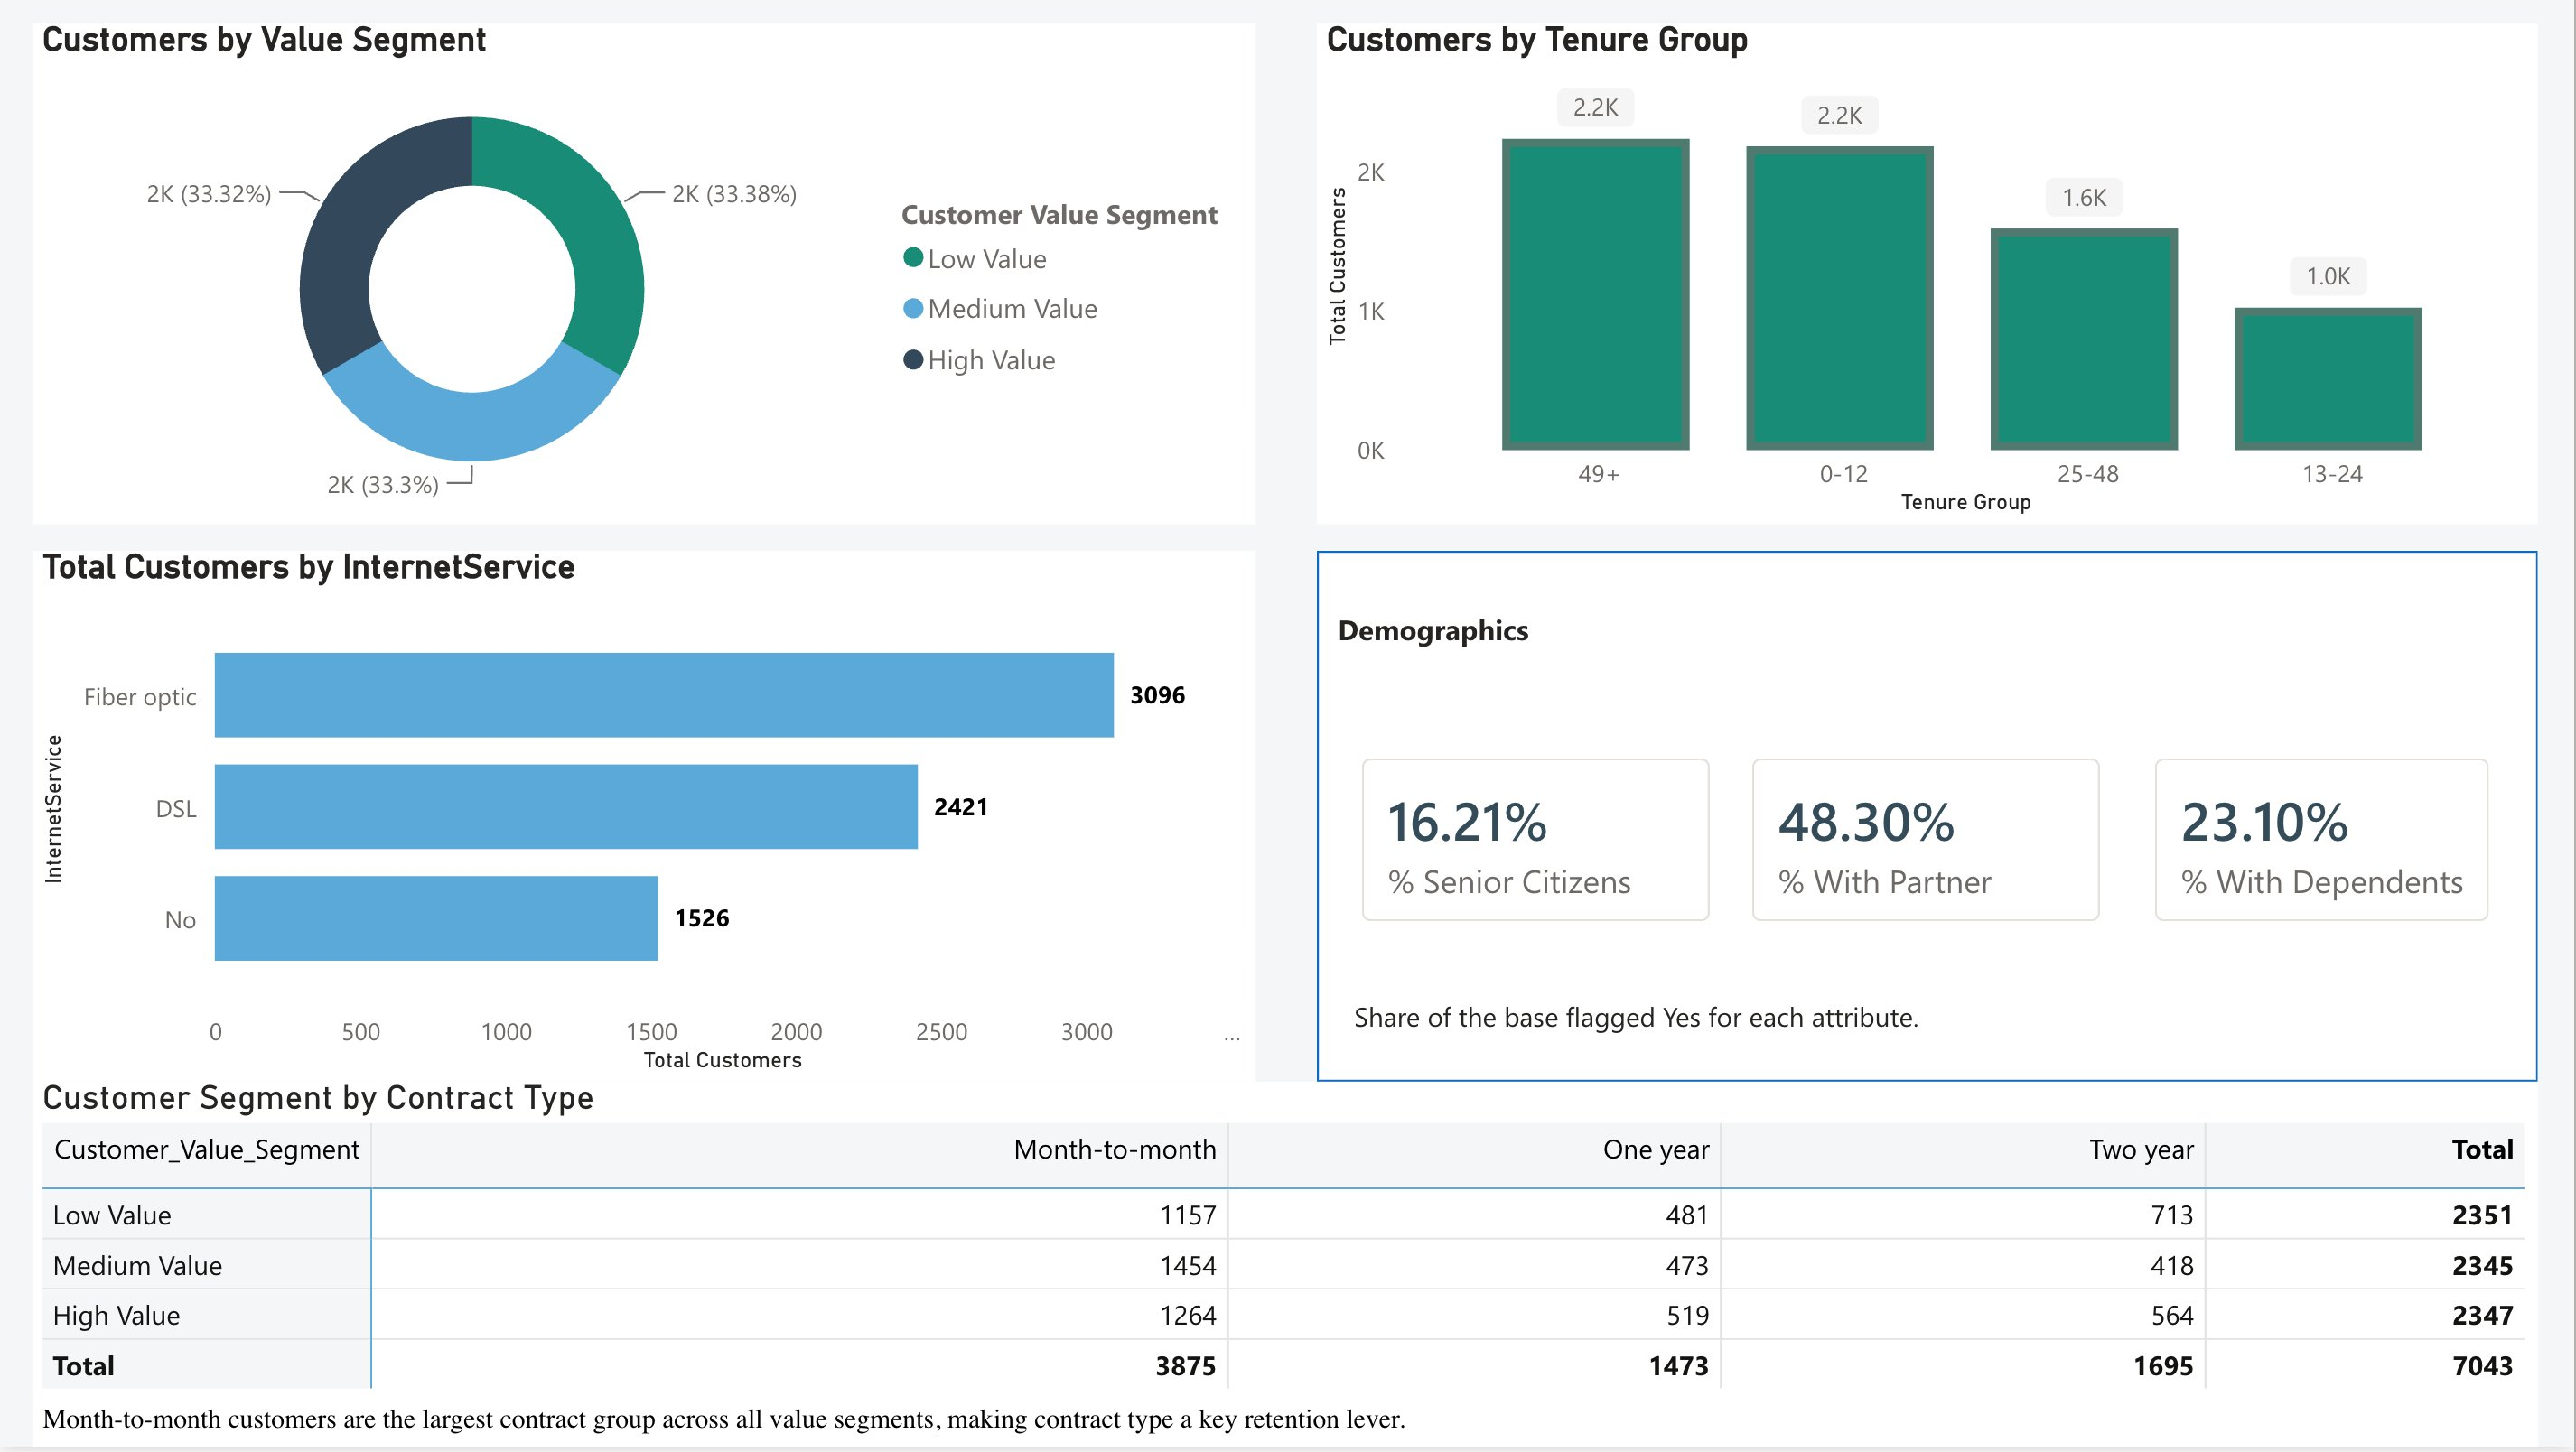

This screenshot's page, from the dashboard's own definition file:
{"tool":"powerbi","page":{"name":"Page 2","canvas":[1280,720],"ordinal":1},"visuals":[{"type":"donutChart","title":"Customers by Value Segment","fields":{"Category":["telco_churn_cleaned.Customer_Value_Segment"],"Y":["telco_churn_cleaned.Total Customers"]},"box":[16.2,11.7,608.1,248.8],"z":0},{"type":"clusteredColumnChart","title":"Customers by Tenure Group","fields":{"Category":["telco_churn_cleaned.Tenure_Group"],"Y":["telco_churn_cleaned.Total Customers"]},"box":[654.8,11.7,607.2,248.8],"z":1000},{"type":"clusteredBarChart","fields":{"Category":["telco_churn_cleaned.InternetService"],"Y":["telco_churn_cleaned.Total Customers"]},"box":[16.2,274,608.1,264.1],"z":2000},{"type":"pivotTable","title":"Customer Segment by Contract Type","fields":{"Columns":["telco_churn_cleaned.Contract"],"Rows":["telco_churn_cleaned.Customer_Value_Segment"],"Values":["telco_churn_cleaned.Total Customers"]},"box":[16.2,538,1245.9,182.3],"z":3000},{"type":"shape","box":[654.8,274,607.2,264.1],"z":4000},{"type":"cardVisual","fields":{"Data":["telco_churn_cleaned.% Senior Citizens"]},"box":[660.2,360.2,207.5,115.9],"z":4001},{"type":"cardVisual","fields":{"Data":["telco_churn_cleaned.% With Partner"]},"box":[854.2,360.2,207.5,115.9],"z":4002},{"type":"cardVisual","fields":{"Data":["telco_churn_cleaned.% With Dependents"]},"box":[1054.5,360.2,200.3,115.9],"z":4003},{"type":"textbox","box":[660.2,298.2,250.6,40.4],"z":4004},{"type":"textbox","box":[668.3,491.3,470.7,35],"z":4005},{"type":"textbox","box":[16.2,690.8,843.5,29.6],"z":4006}]}

Visuals, with their boxes in screenshot pixels (x1, y1, x2, y2), scaled from the page's 1280x720 canvas onto the 2576x1452 screenshot:
"Customers by Value Segment" donutChart: <region>33, 23, 1256, 526</region>
"Customers by Tenure Group" clusteredColumnChart: <region>1318, 23, 2540, 526</region>
clusteredBarChart - telco_churn_cleaned.InternetService x telco_churn_cleaned.Total Customers: <region>33, 553, 1256, 1085</region>
"Customer Segment by Contract Type" pivotTable: <region>33, 1085, 2540, 1451</region>
shape: <region>1318, 553, 2540, 1085</region>
cardVisual - telco_churn_cleaned.% Senior Citizens: <region>1329, 726, 1746, 960</region>
cardVisual - telco_churn_cleaned.% With Partner: <region>1719, 726, 2137, 960</region>
cardVisual - telco_churn_cleaned.% With Dependents: <region>2123, 726, 2525, 960</region>
textbox: <region>1329, 601, 1833, 683</region>
textbox: <region>1345, 991, 2292, 1061</region>
textbox: <region>33, 1393, 1731, 1451</region>
